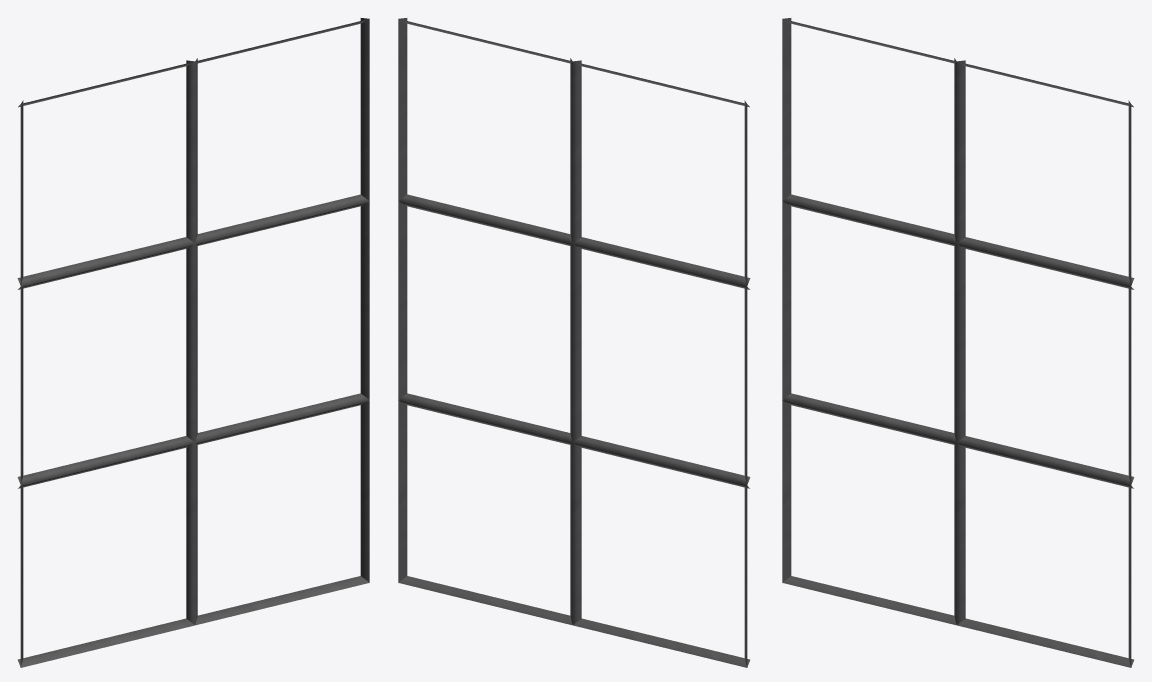
The model's file is WinInsertTrad1x1_5Vert.gltf.
The picture shows the model from 3 angles, left to right: view 1: azimuth 30°, elevation 25°; view 2: azimuth 150°, elevation 25°; view 3: azimuth 330°, elevation 25°; orthographic projection.
Visible parts, largest first — view 1: WinInsertTrad1x1_5VertShape; view 2: WinInsertTrad1x1_5VertShape; view 3: WinInsertTrad1x1_5VertShape.
Boxes of the visible parts, box(x1,y1,x2,y2) form: WinInsertTrad1x1_5VertShape: box(17, 18, 369, 667); WinInsertTrad1x1_5VertShape: box(398, 18, 750, 667); WinInsertTrad1x1_5VertShape: box(782, 18, 1134, 667).
Bounding box in the file's own units: 0.918 × 1.42 × 0.03.
1 material, 1 textured.
